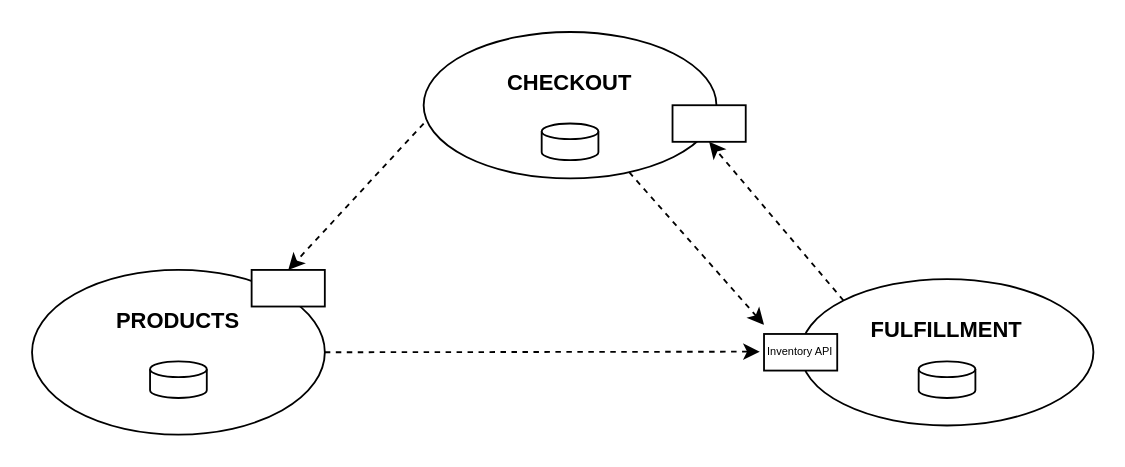
Image size: 1125x467. Some labels were removed from this diagram. The centre of each missing label's shape, as x and y in pixels:
Articles API: (287,287)
Orders API: (708,122)
